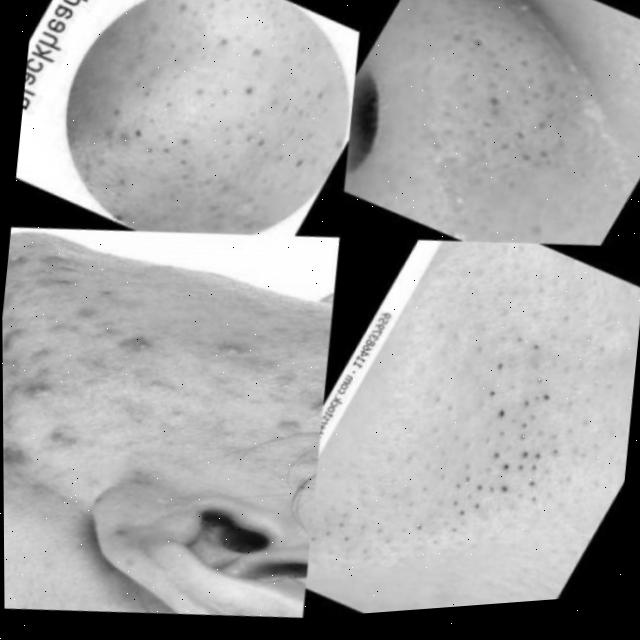Acne: (2, 275, 267, 498), (362, 14, 568, 238), (411, 335, 555, 548), (133, 0, 289, 188)
